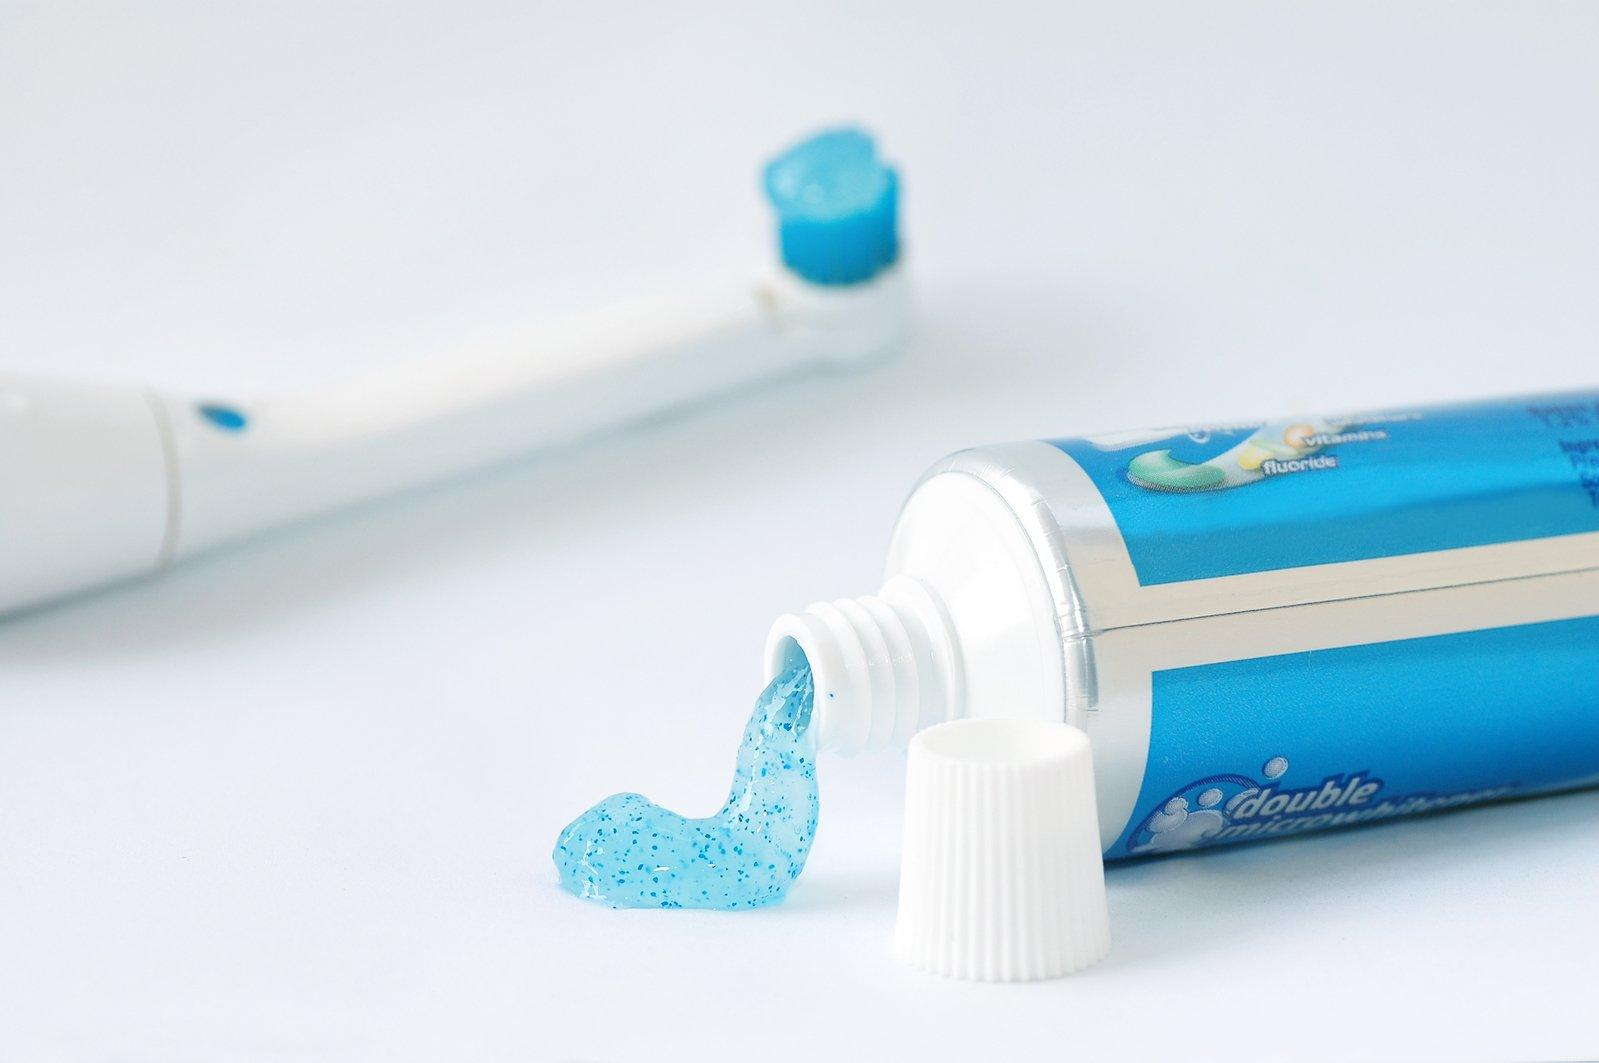toothpaste: (747, 376, 1599, 852)
